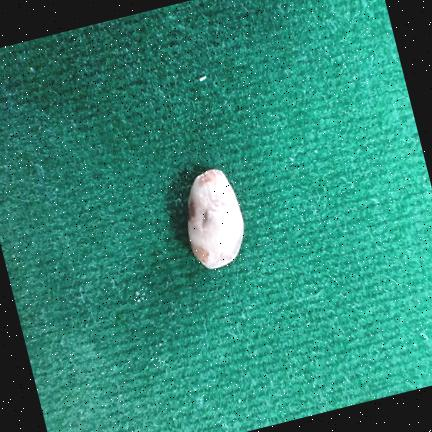shell: (187, 169, 243, 268)
